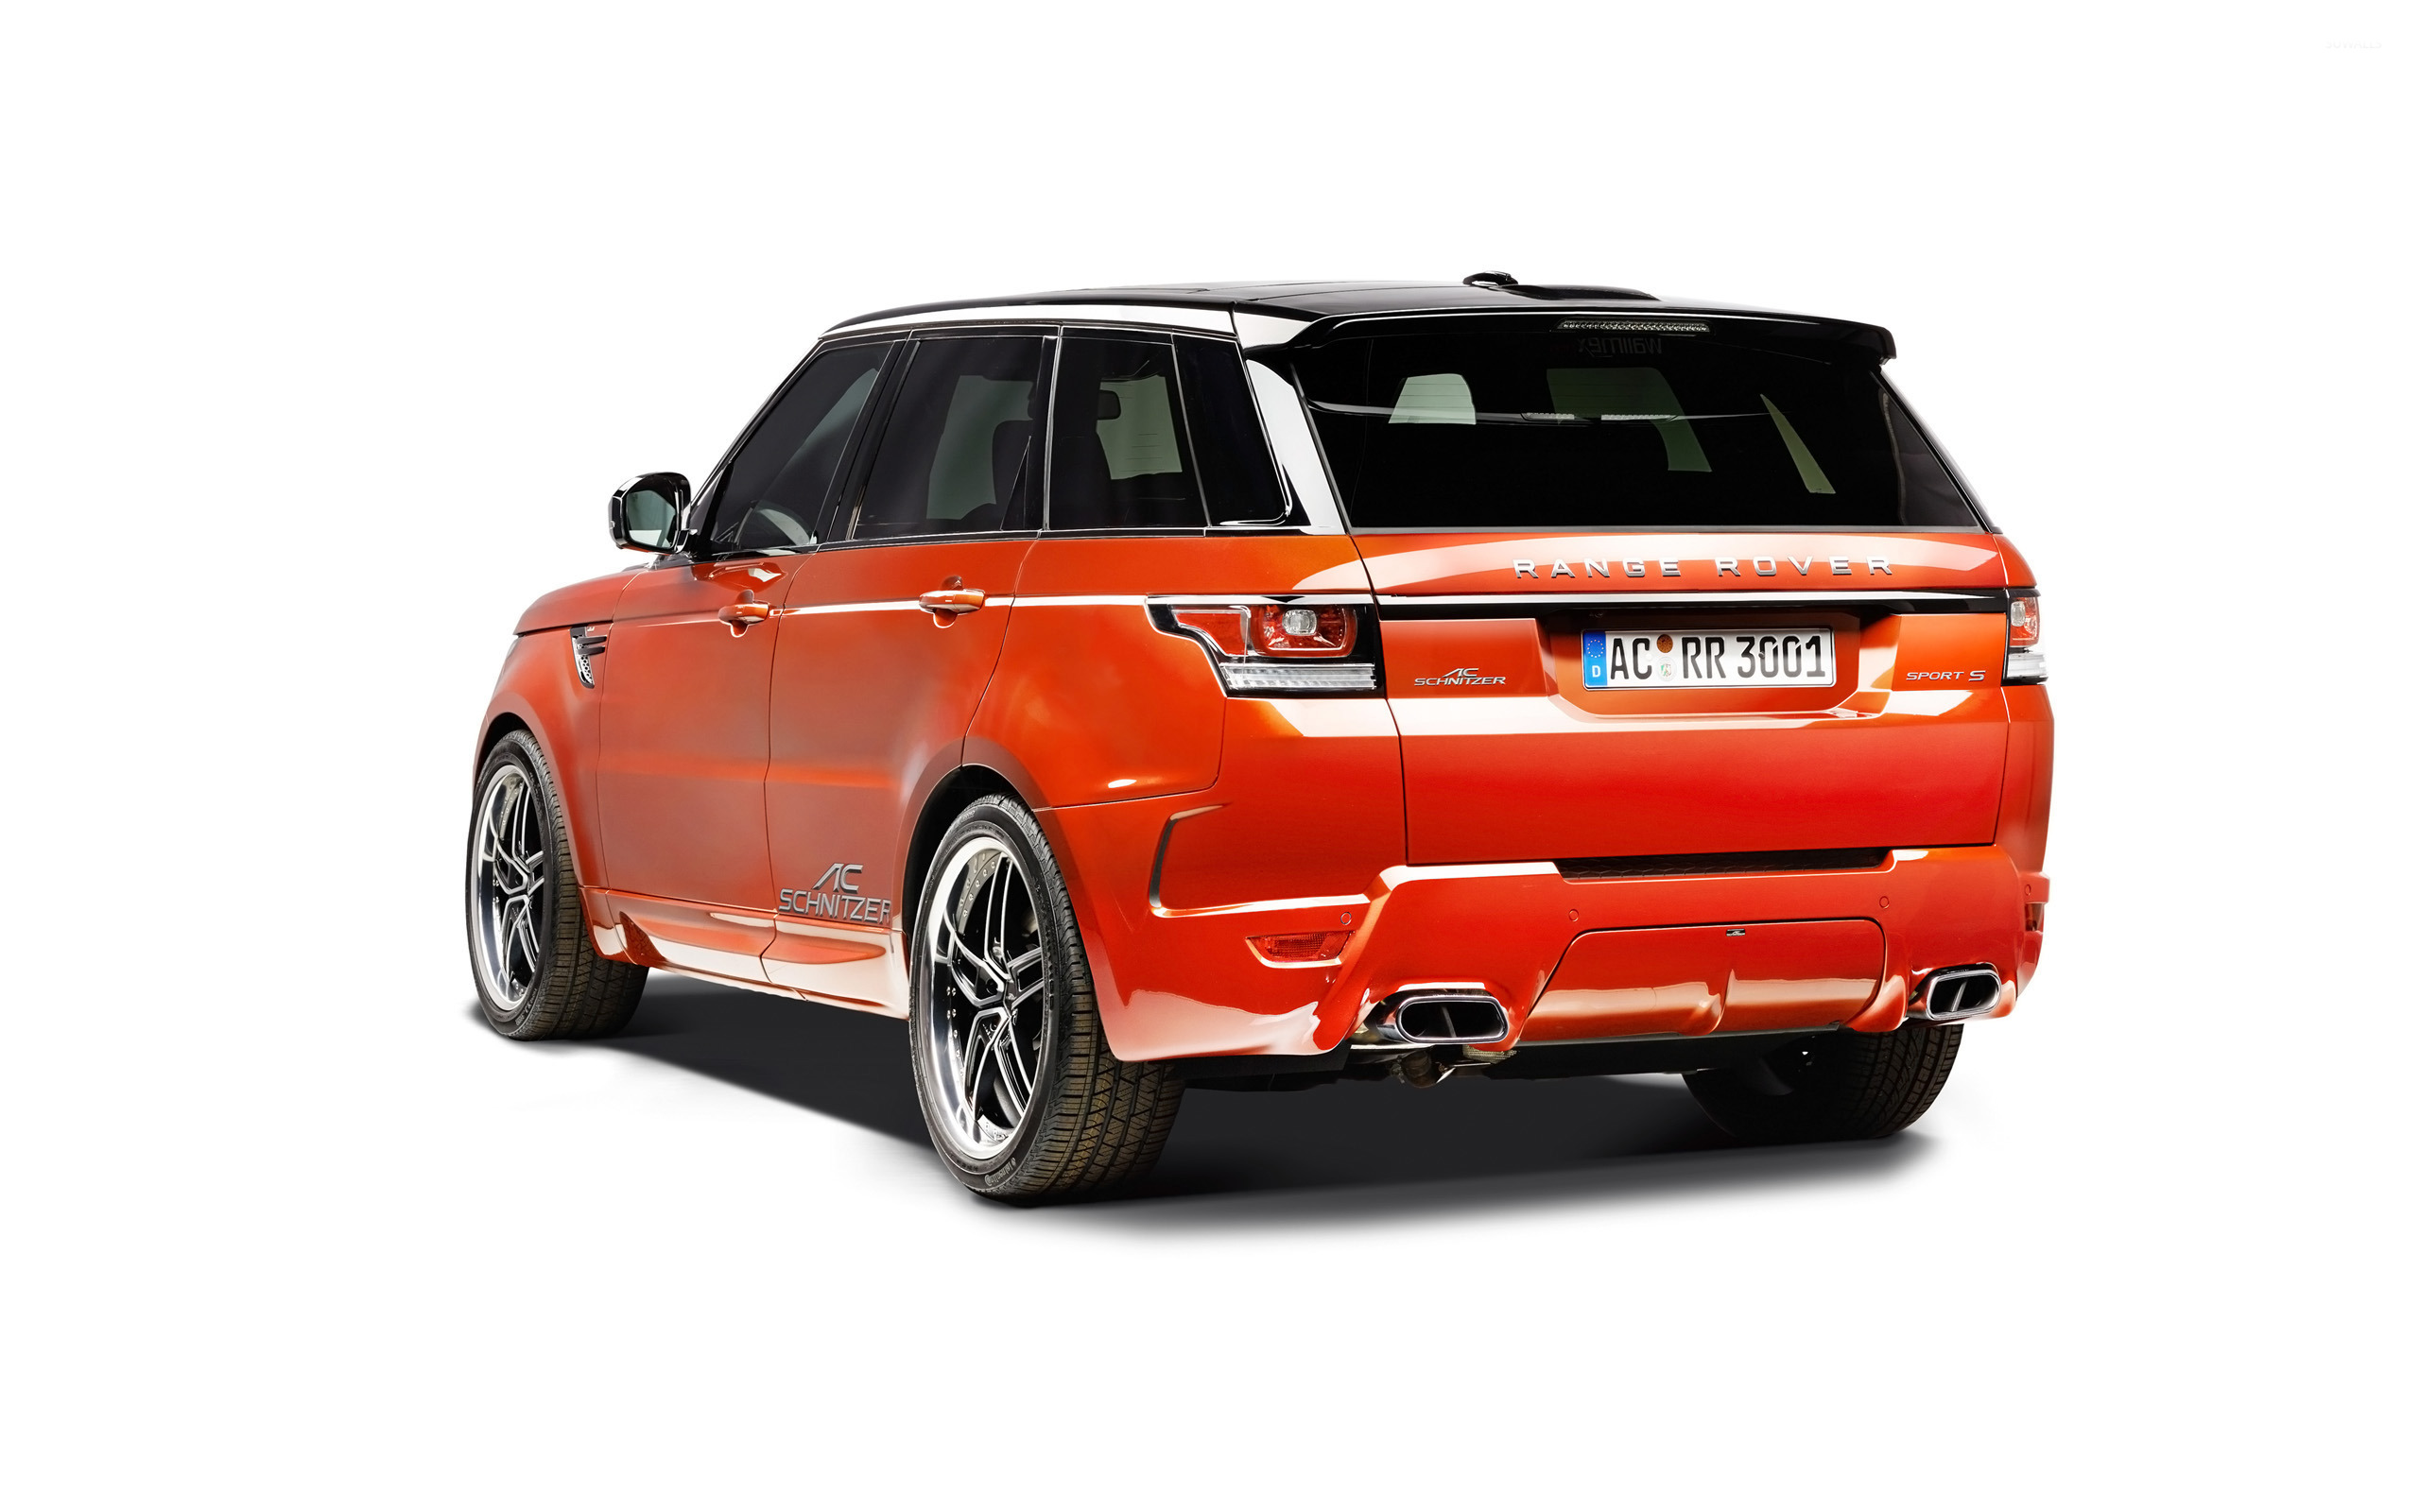car: (469, 282, 2058, 1198)
